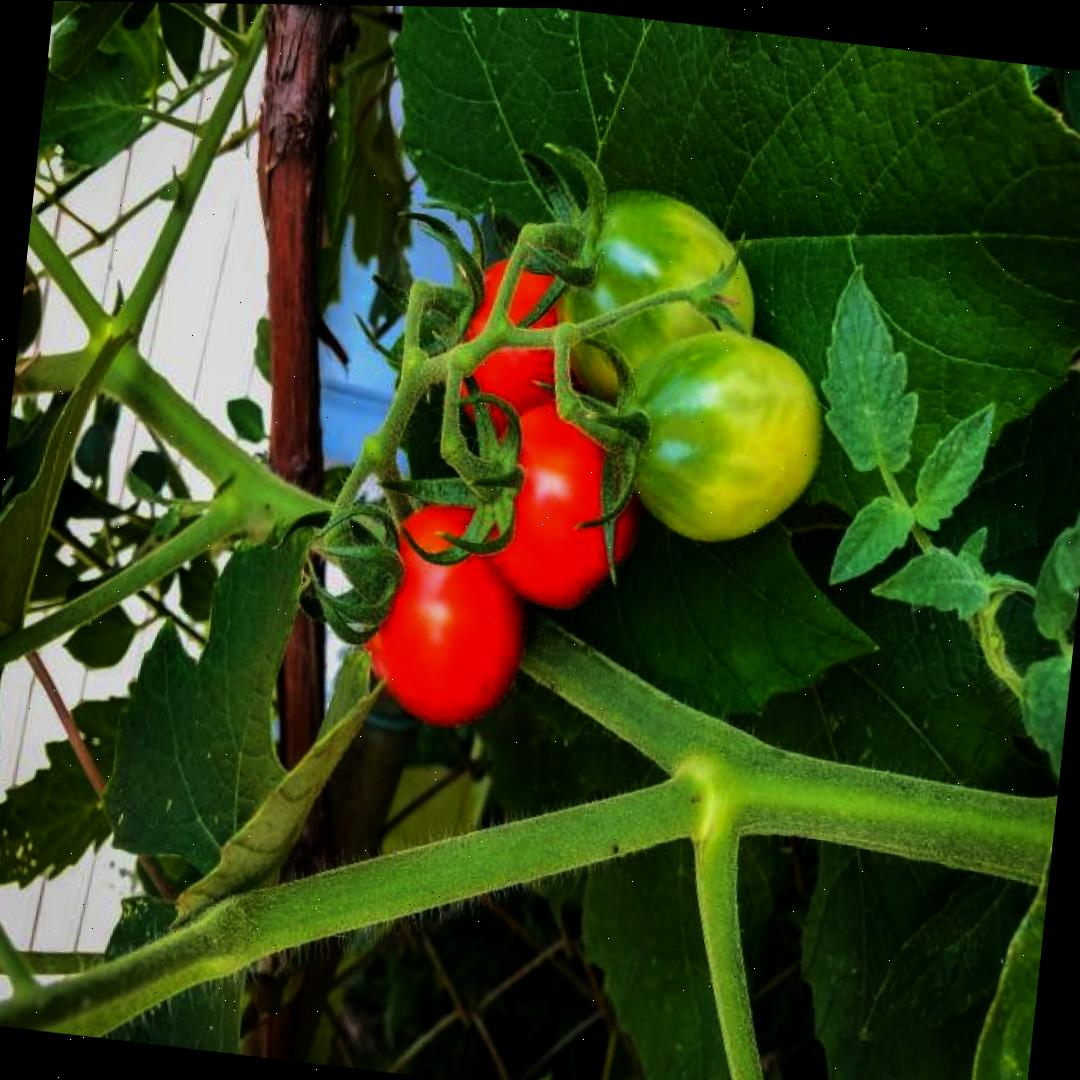matang: (354, 481, 542, 734), (474, 381, 658, 621)
mentah: (605, 318, 834, 559), (548, 179, 765, 422)
